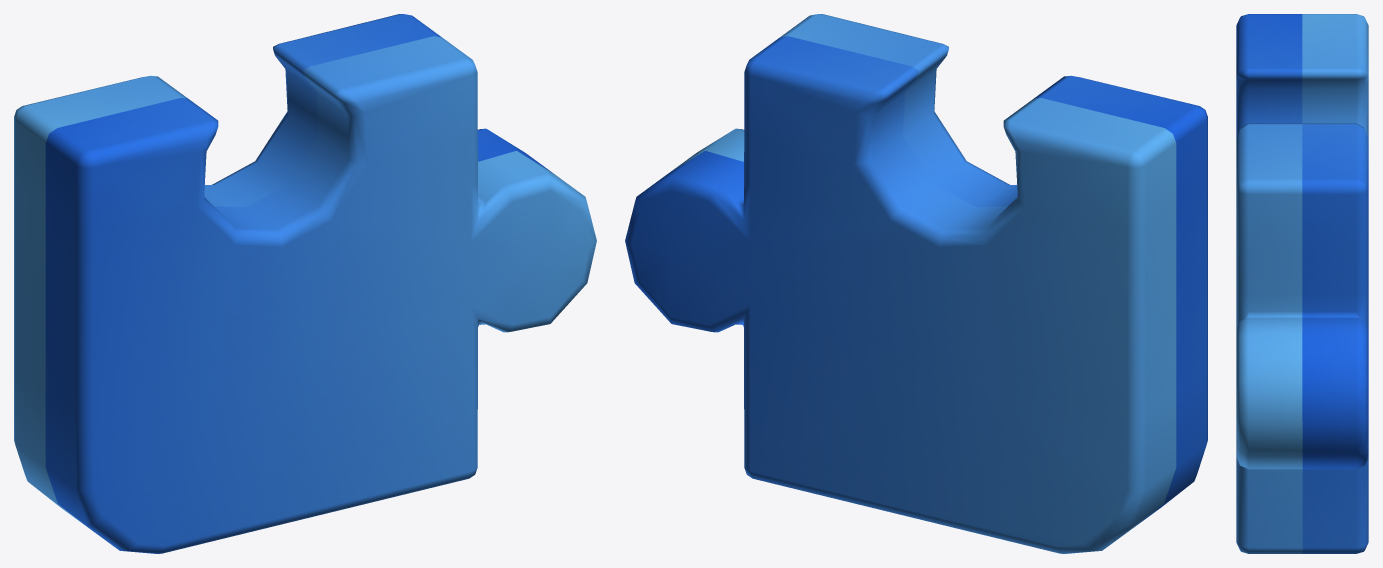
The model's file is PuzzlePieceBlue.fbx.
3 views of the same model, side by side, from view 1: azimuth 30°, elevation 25°; view 2: azimuth 150°, elevation 25°; view 3: azimuth 270°, elevation 25° (orthographic). The views are drawn at different scales.
Visible parts, largest first — view 1: PuzzlePieceBlue; view 2: PuzzlePieceBlue; view 3: PuzzlePieceBlue.
Part boxes in pixels (x1=…): PuzzlePieceBlue: x1=14, y1=14, x2=596, y2=553; PuzzlePieceBlue: x1=625, y1=14, x2=1207, y2=553; PuzzlePieceBlue: x1=1236, y1=14, x2=1368, y2=553.
Bounding box in the file's own units: 102 × 79.04 × 25.25.
